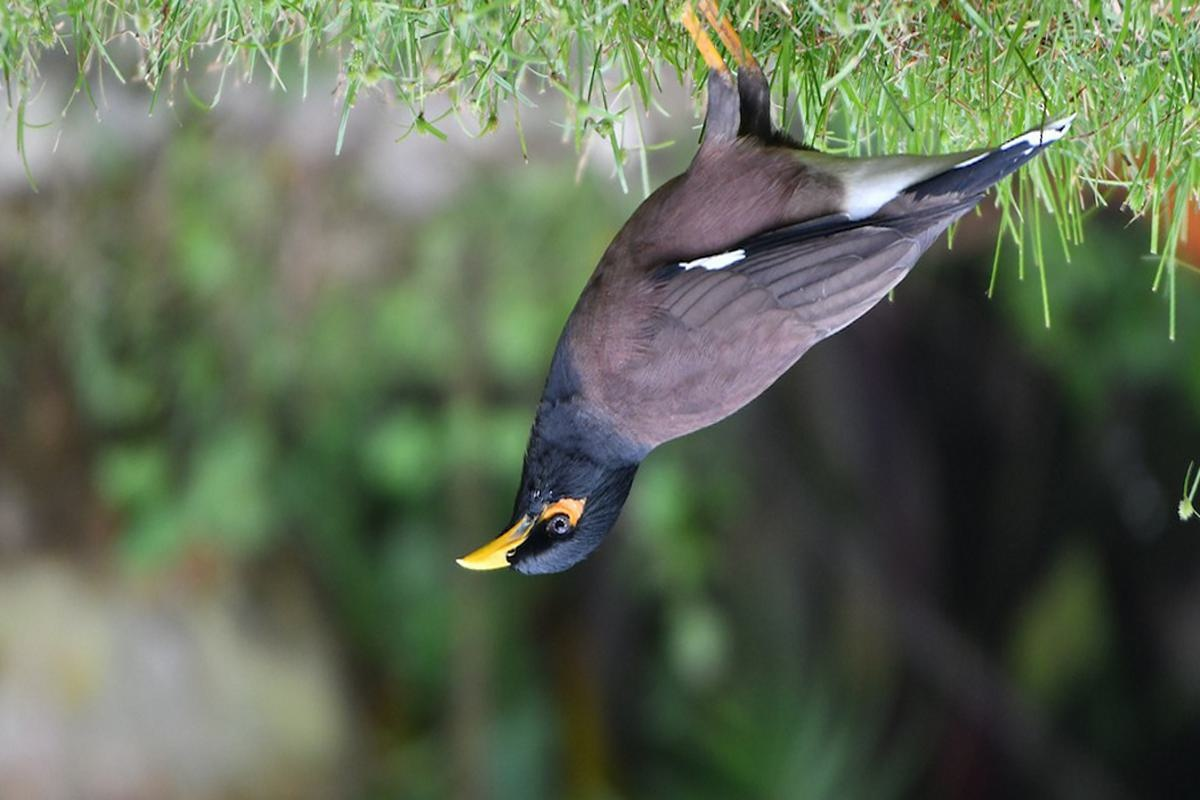myna: (435, 41, 1046, 601)
